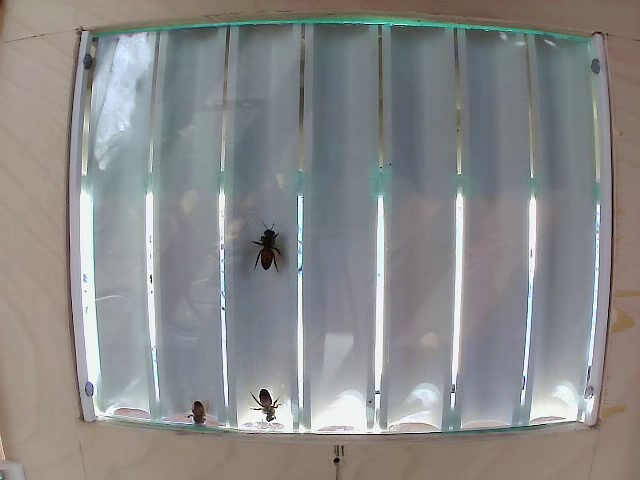bee: (254, 227, 289, 284), (250, 379, 282, 413)
